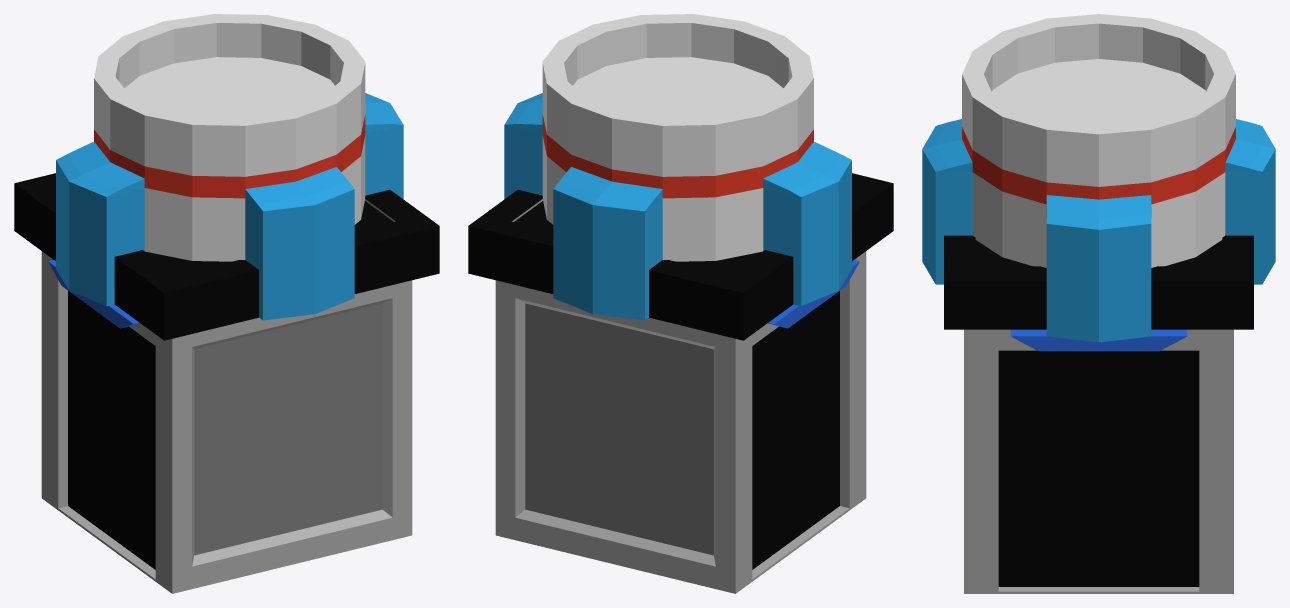
Rendered from Máquina de Derreter.fbx.
3 renders of one model, left to right at view 1: azimuth 30°, elevation 25°; view 2: azimuth 150°, elevation 25°; view 3: azimuth 270°, elevation 25°, orthographic. The views are drawn at different scales.
Parts seen in each view (by area): view 1: Cube, Cylinder; view 2: Cube, Cylinder; view 3: Cube, Cylinder.
Part boxes in pixels (x1,y1,x2,y2): Cube: (14,173,439,593); Cylinder: (56,14,403,320); Cube: (468,173,893,593); Cylinder: (504,14,851,320); Cube: (944,235,1253,593); Cylinder: (922,14,1275,342).
Bounding box in the file's own units: 715 × 948 × 660.
